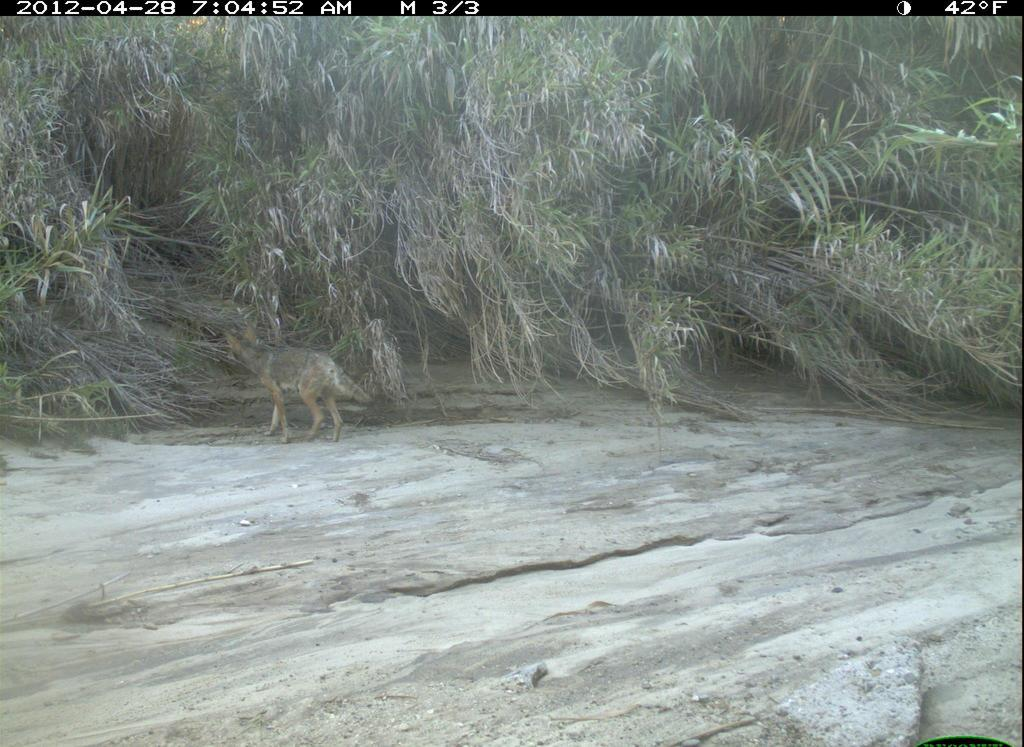coyote: (220, 322, 379, 449)
